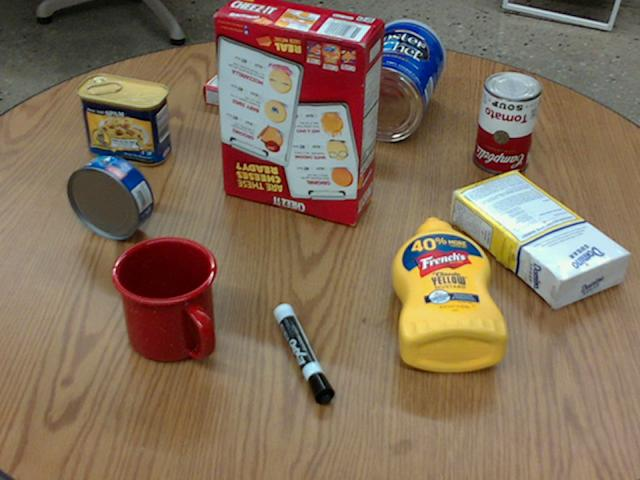cracker_box: (213, 0, 383, 223)
gelatin_box: (202, 63, 285, 116)
large_marker: (272, 303, 333, 404)
master_chef_can: (341, 19, 443, 140)
mug: (110, 236, 217, 363)
mustard_bottle: (390, 216, 506, 372)
potted_meat_can: (75, 75, 170, 165)
sugar_box: (448, 172, 630, 305)
tomato_soup_can: (471, 70, 539, 172)
tuna_fish_can: (67, 154, 152, 239)
